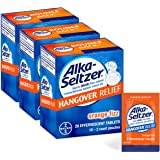Medicine: (38, 37, 129, 140), (118, 89, 160, 155), (37, 41, 63, 146), (17, 27, 39, 124), (18, 21, 106, 44), (1, 11, 19, 109), (1, 6, 83, 25)
